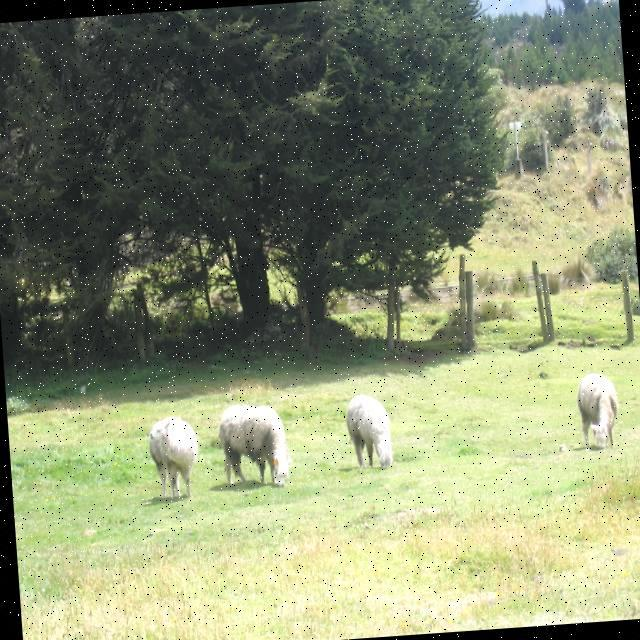sheep: (218, 404, 289, 482), (149, 414, 197, 495), (346, 394, 391, 465), (576, 372, 617, 445)
